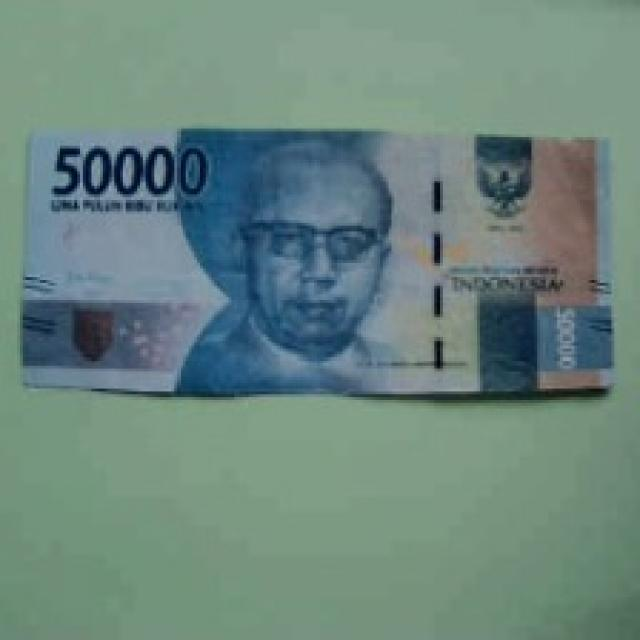dua ribu rupiah: (7, 84, 640, 472)
